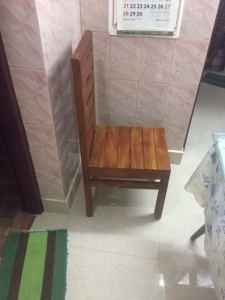chair: (69, 30, 172, 221)
